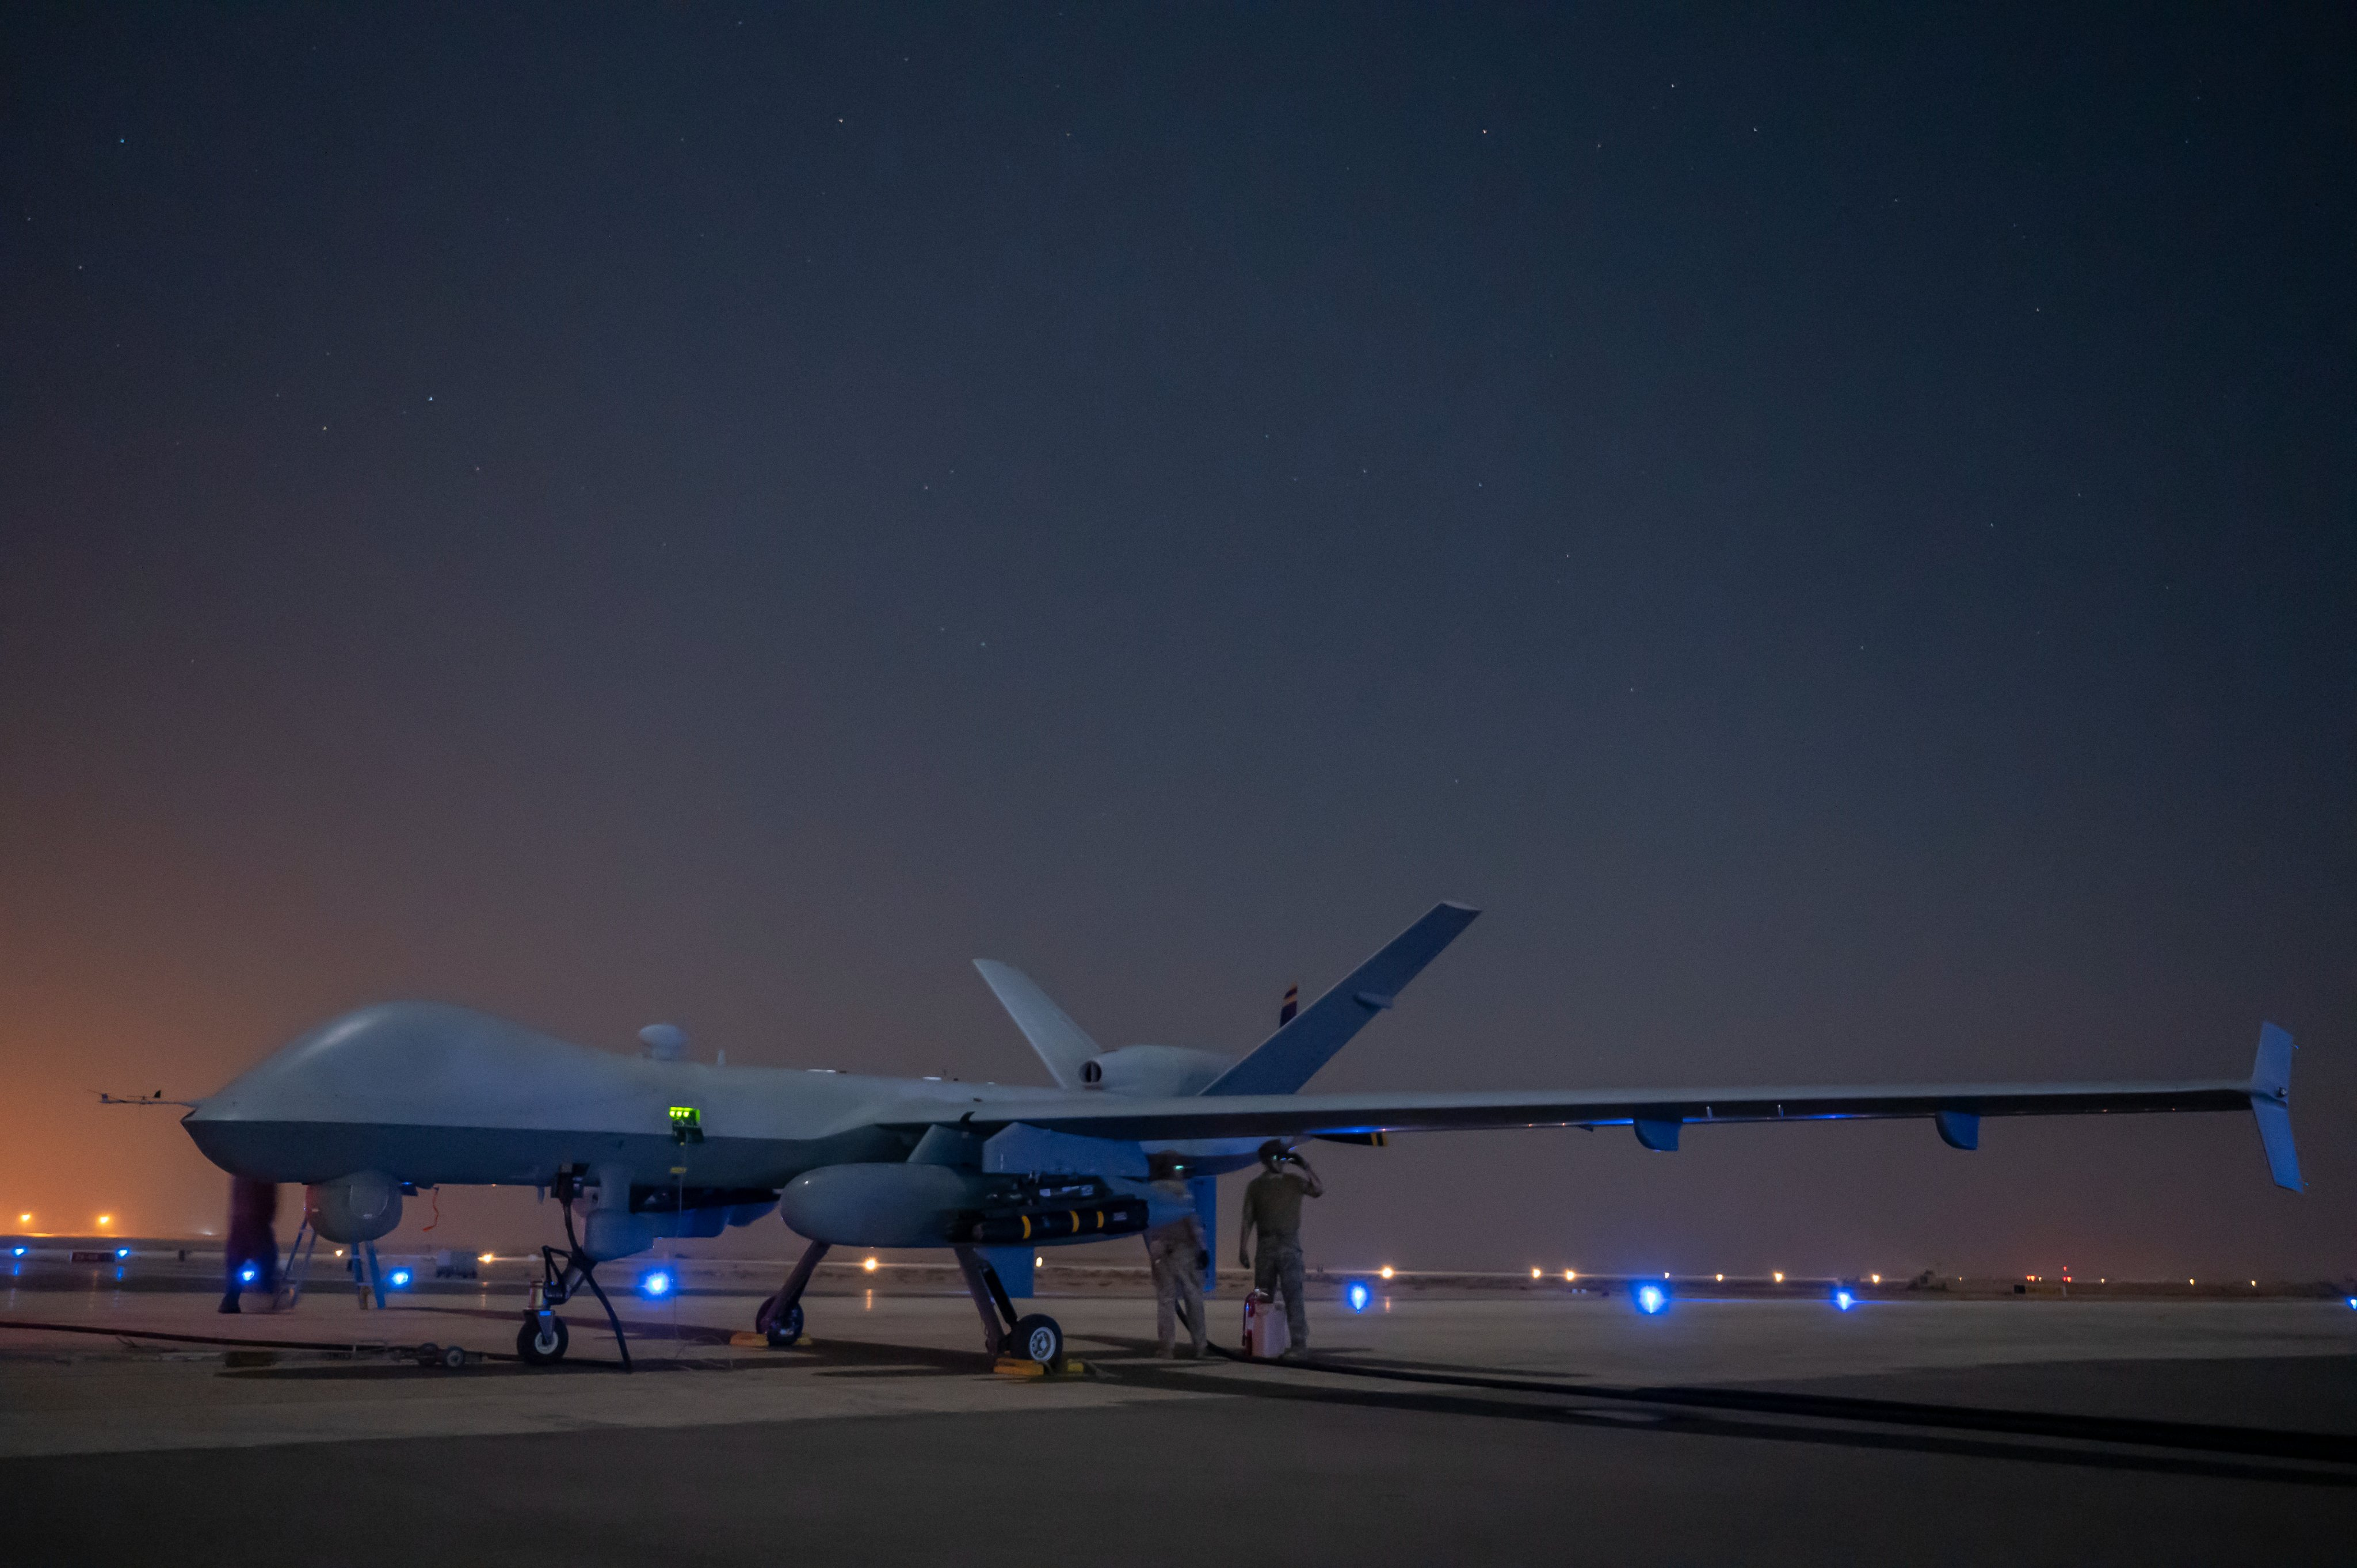airplane: (86, 899, 2310, 1374)
